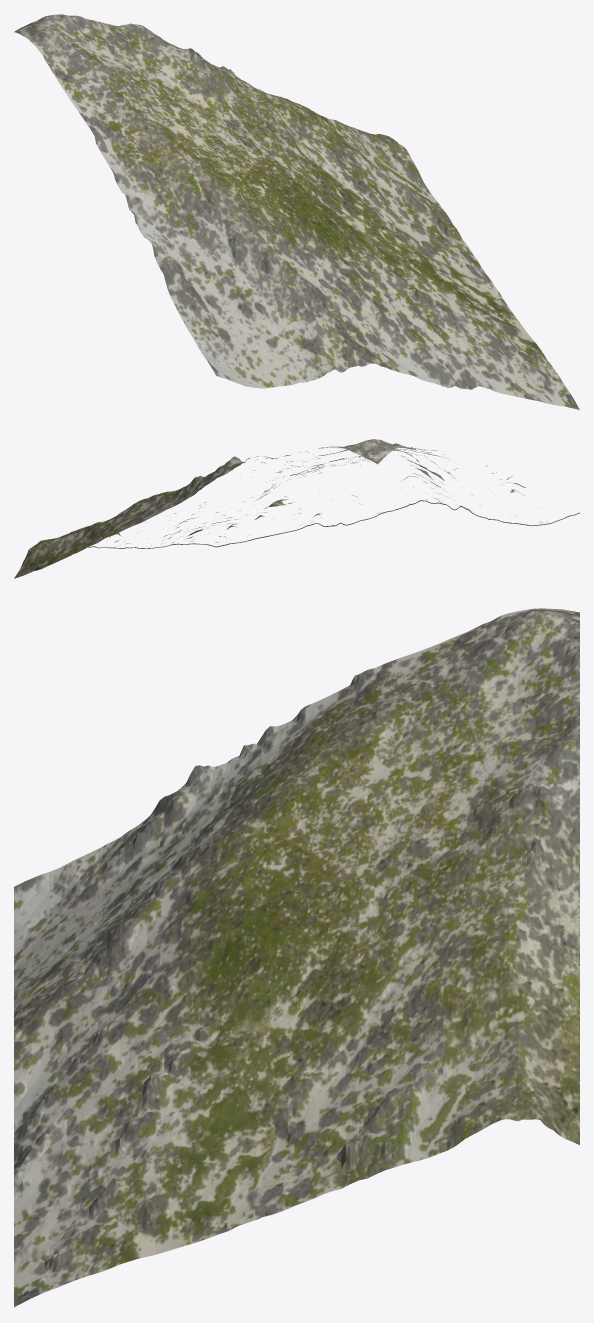
3 renders of one model, top to bottom at view 1: azimuth 30°, elevation 25°; view 2: azimuth 150°, elevation 25°; view 3: azimuth 270°, elevation 25°, orthographic. The views are drawn at different scales.
Size of the model in its own units: 500 by 432 by 481.
1 material, 1 textured.
